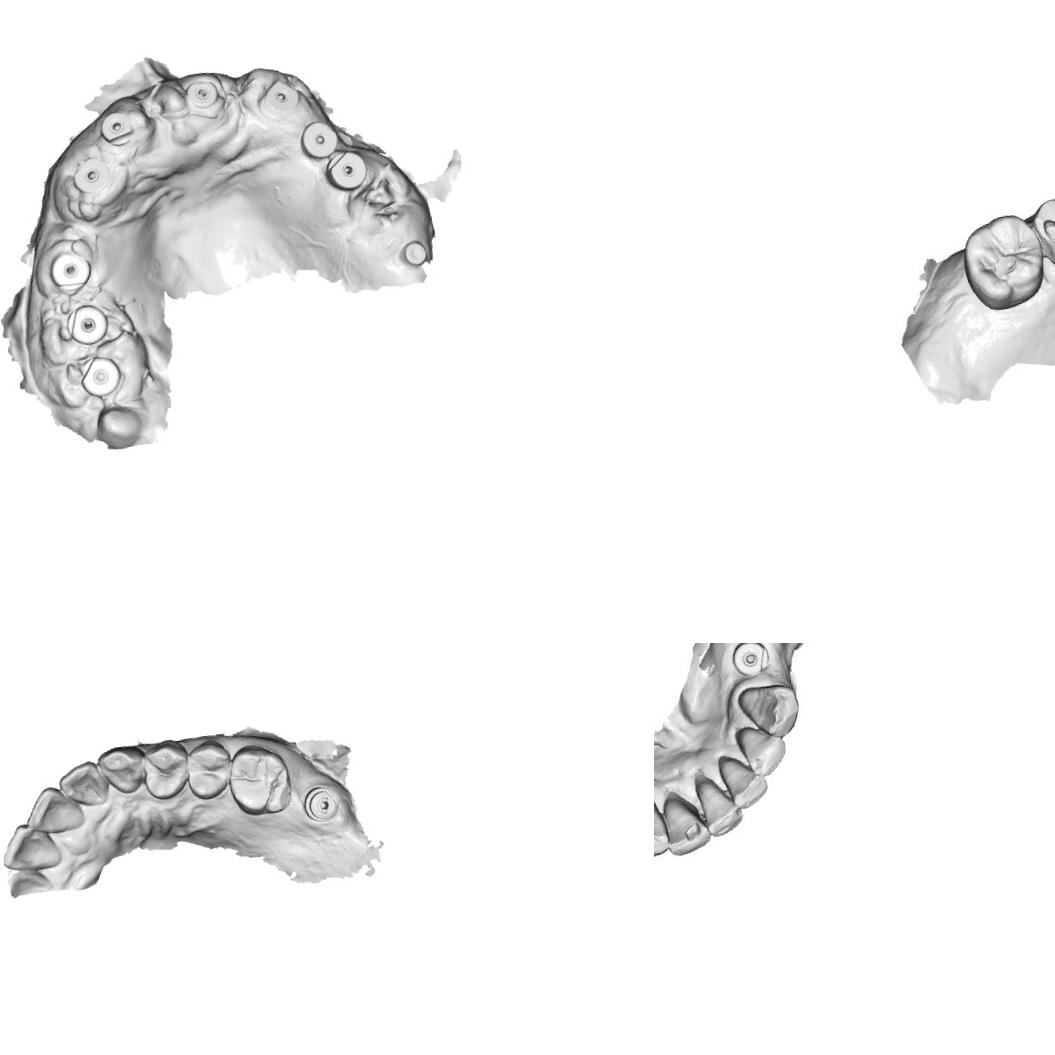canine: (732, 677, 804, 745), (95, 742, 149, 797), (654, 785, 670, 868)
implant: (62, 300, 112, 348), (46, 248, 95, 296), (322, 148, 372, 195), (76, 353, 124, 400), (296, 118, 342, 162), (70, 154, 112, 196), (260, 76, 302, 118), (98, 109, 136, 148), (182, 78, 222, 113), (728, 643, 768, 675), (399, 237, 429, 268)
implant_minus: (300, 782, 342, 826)
incisor: (657, 794, 714, 862), (0, 818, 64, 875), (22, 782, 87, 837), (695, 771, 747, 836), (718, 751, 770, 812), (738, 724, 790, 784), (56, 757, 112, 811)
inlay: (1038, 200, 1055, 252)
molar: (955, 208, 1054, 316), (224, 738, 296, 820)
premolar: (139, 736, 194, 802), (182, 737, 236, 802)
